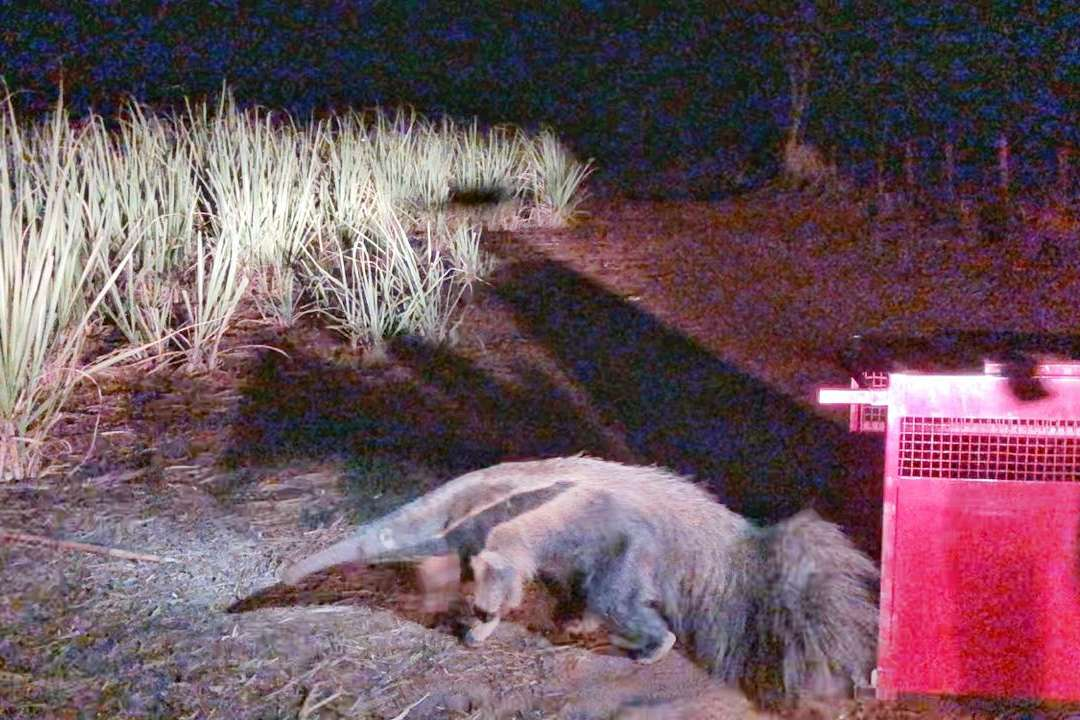TamanduaBandeira: (270, 446, 869, 709)
